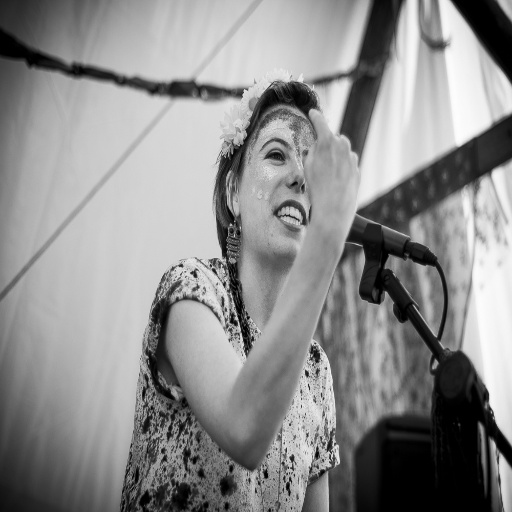hand: (307, 112, 367, 277)
